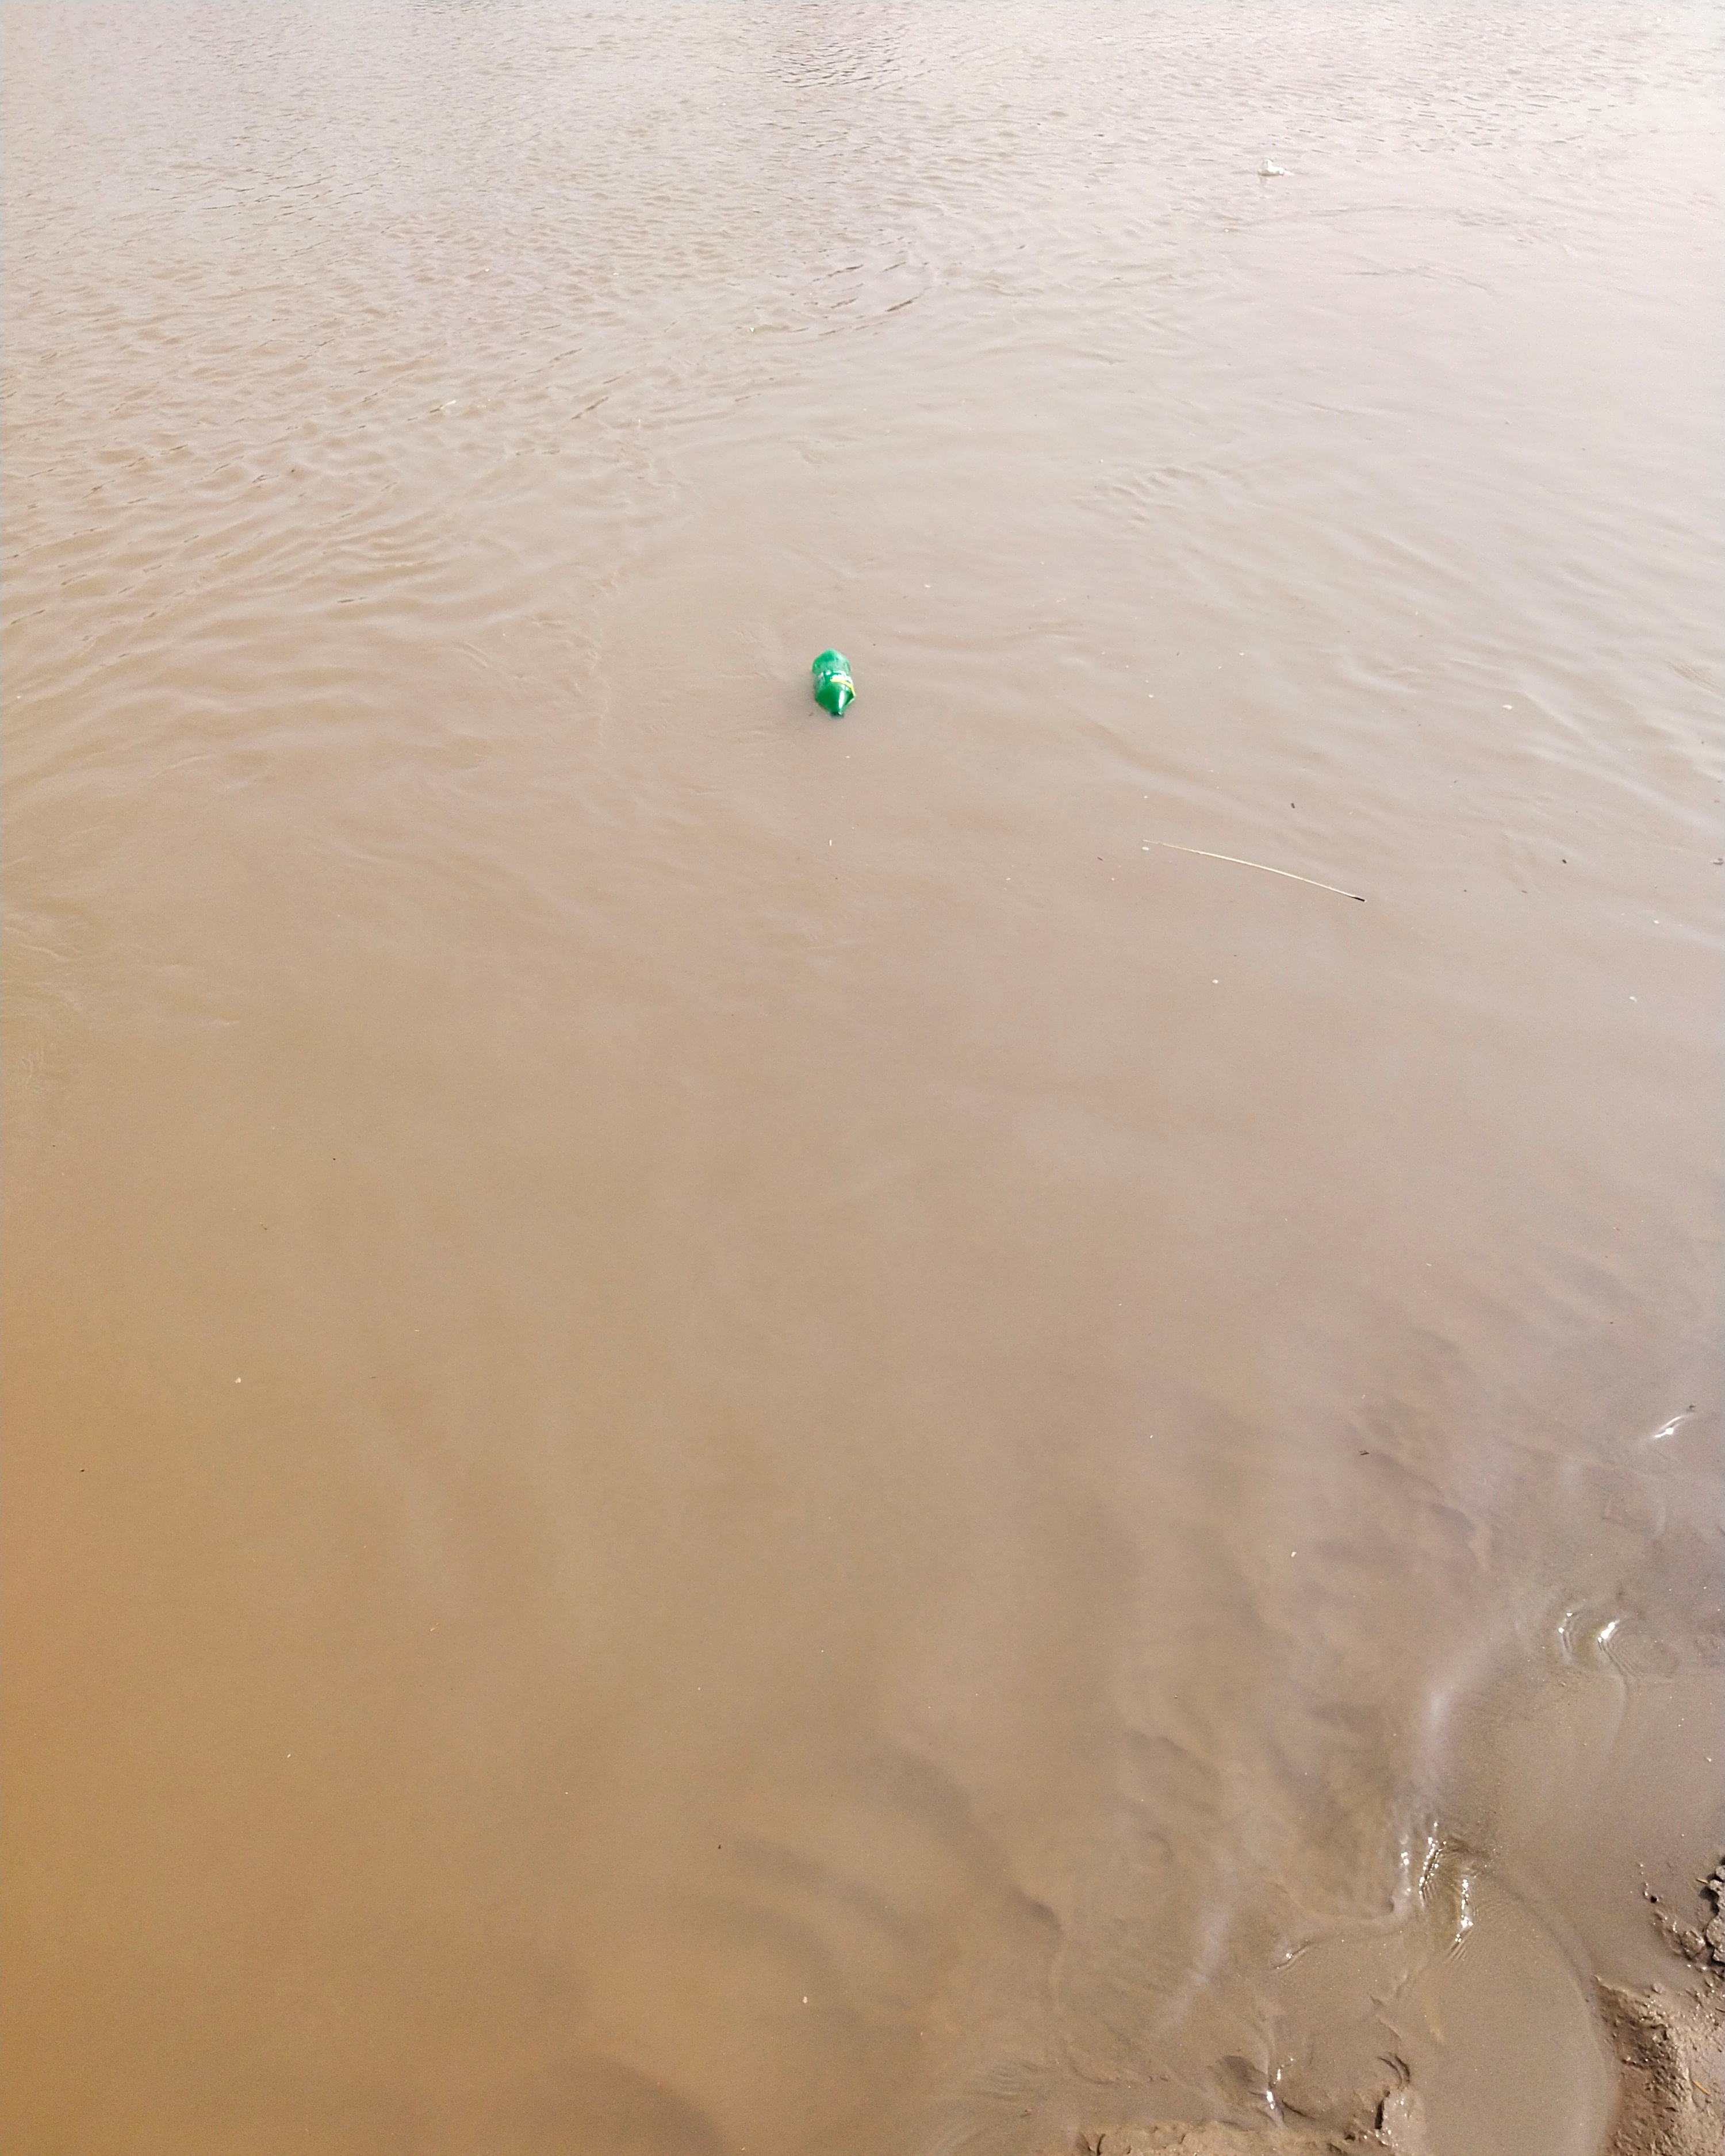Plastic Bottle: (811, 648, 854, 718), (1257, 158, 1283, 174)
